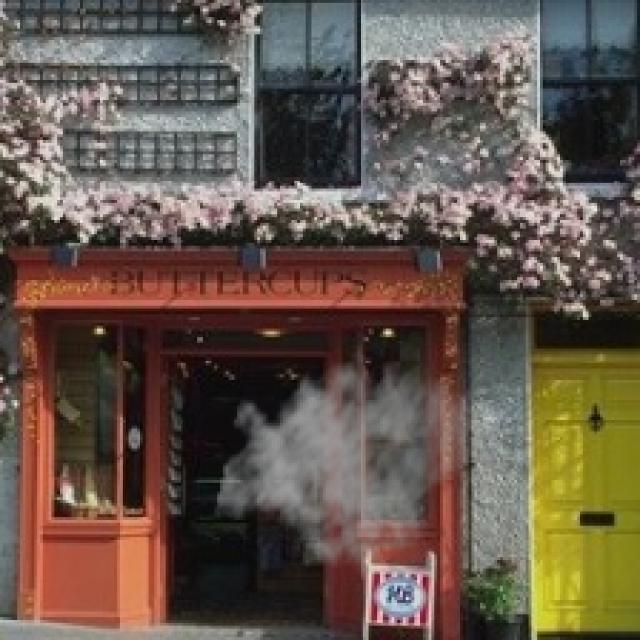Smoke: (215, 337, 474, 577)
